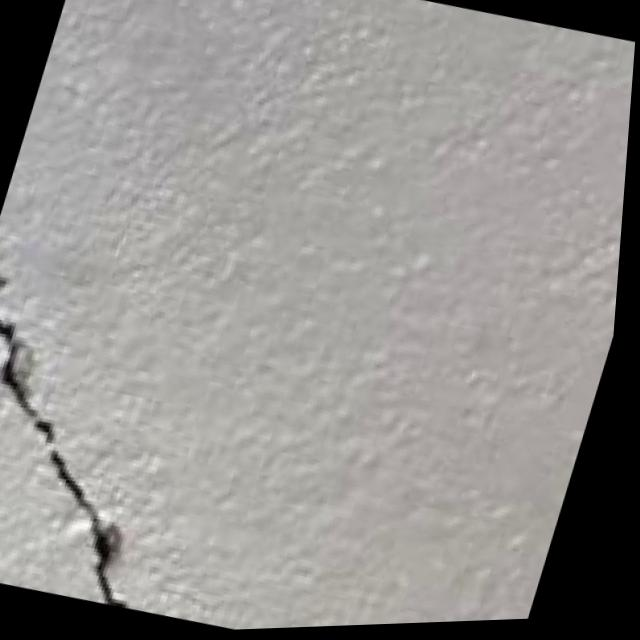Crack: (0, 240, 277, 625)
